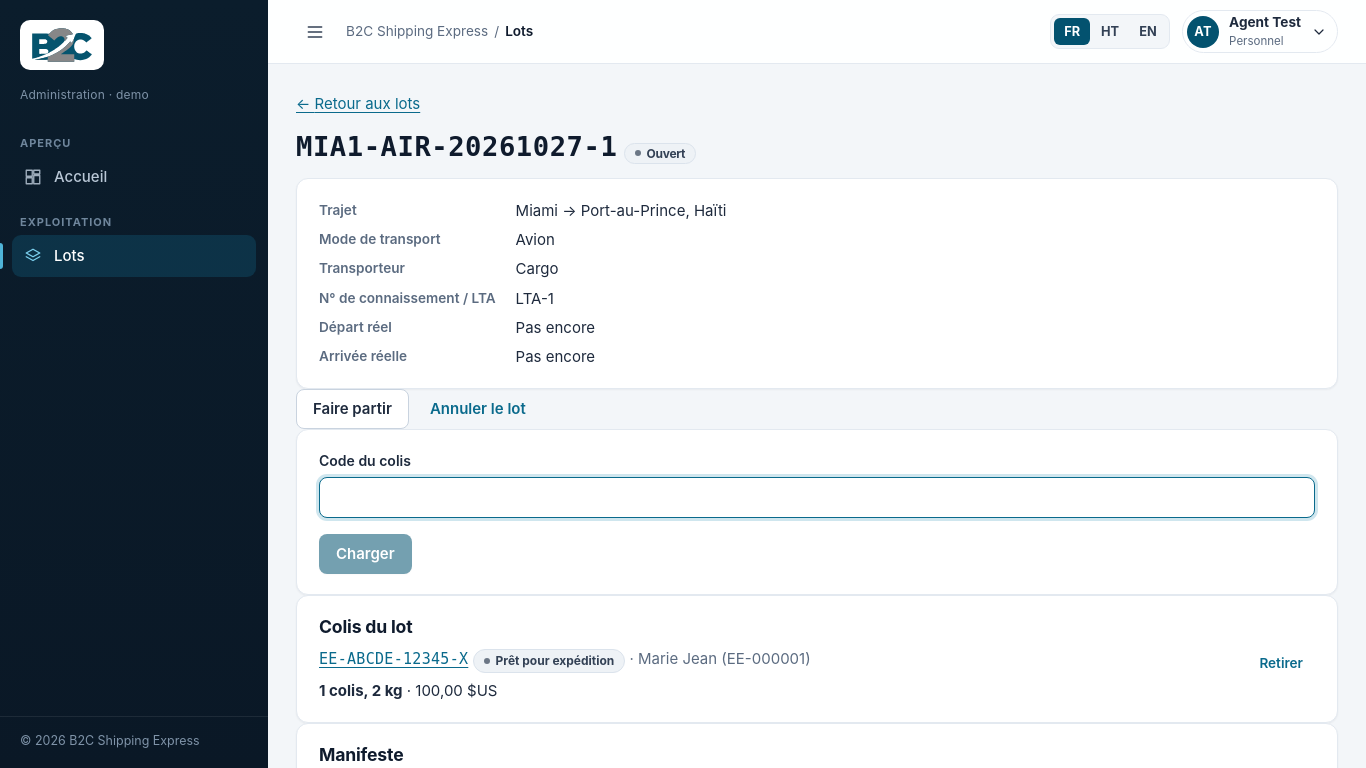
lots de transport (personnel) › un refus du serveur est expliqué et le lot ne change pas
Click the button "Faire partir". click: point(352, 409)
box: [296,389,409,429]
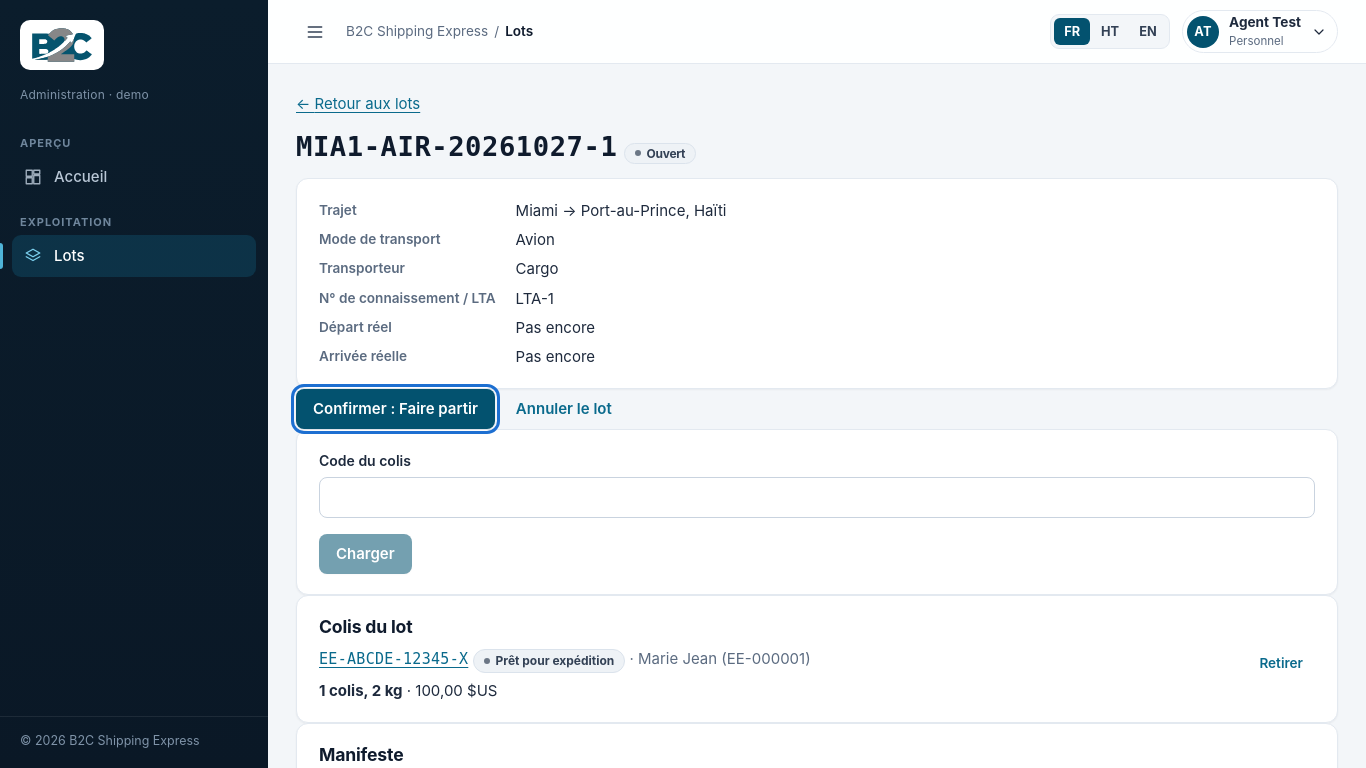
Click the button "Confirmer : Faire partir". click: point(395, 409)
box: [296,389,495,429]
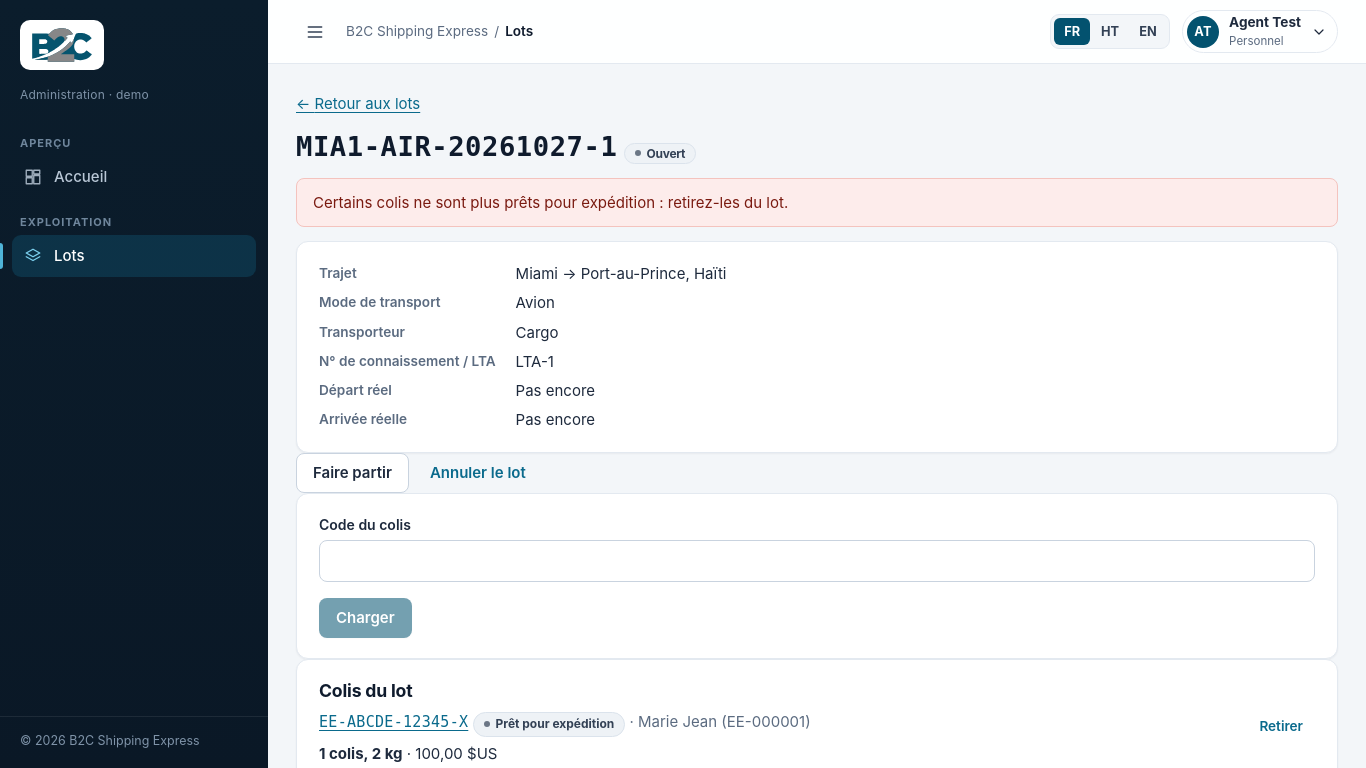
Check: the text with test id "shipment-status" reads "Ouvert", box [646,146,685,161]
Check: the message reads "Certains colis ne sont plus prêts pour expédition : retirez-les du lot.", box [313,193,788,212]
